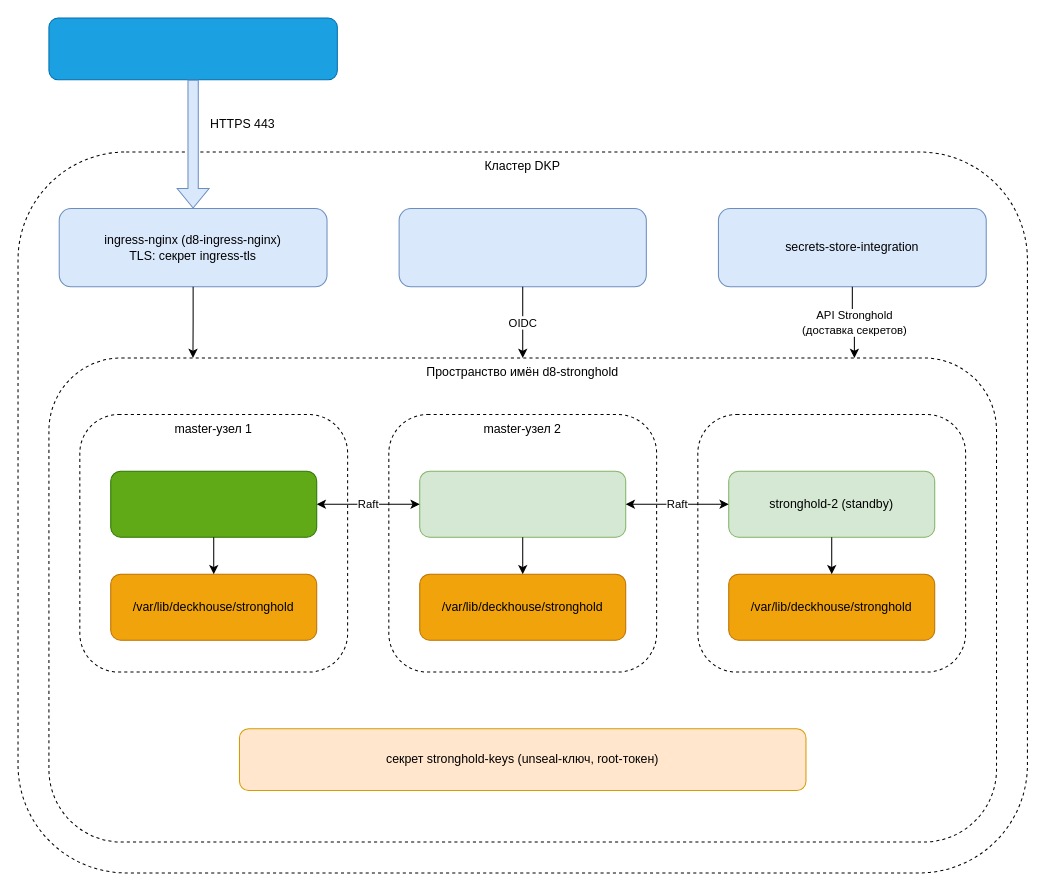
Some shapes in this 1045 by 891 pixel diagram are drawn without their labels. The box of each missing label's shape, as (x1, y1, x2, y2) in pixels:
master-узел 3: (697, 414, 966, 672)
stronghold-0 (active): (110, 470, 317, 537)
stronghold-1 (standby): (419, 470, 626, 537)
user-authn (Dex, OIDC): (398, 208, 646, 287)
Пользователи, CLI, приложения вне кластера: (48, 17, 337, 80)
